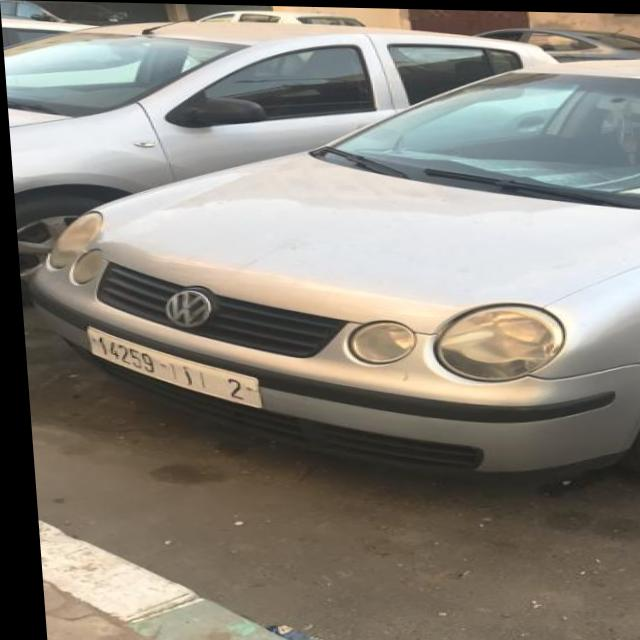License-Plate: (83, 327, 255, 406)
